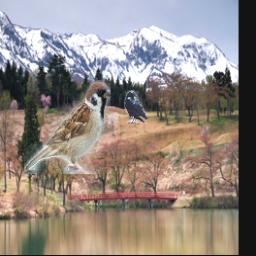Crow: (124, 91, 147, 124)
Sparrow: (25, 81, 112, 175)
